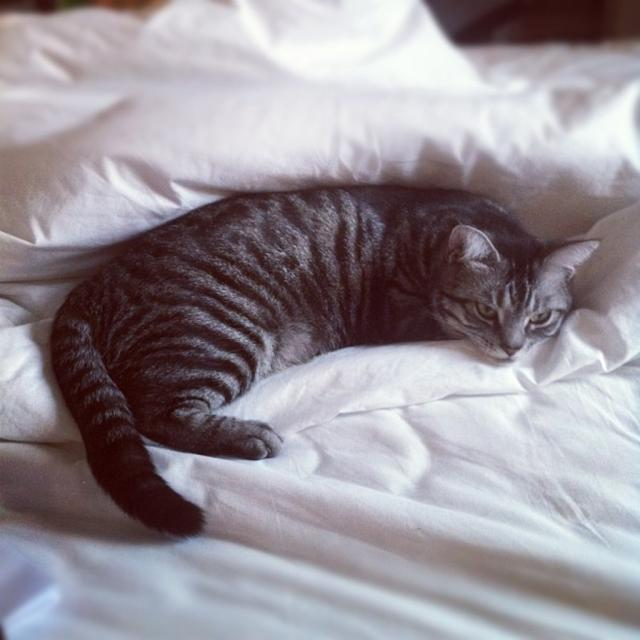Cat: (46, 183, 601, 539)
